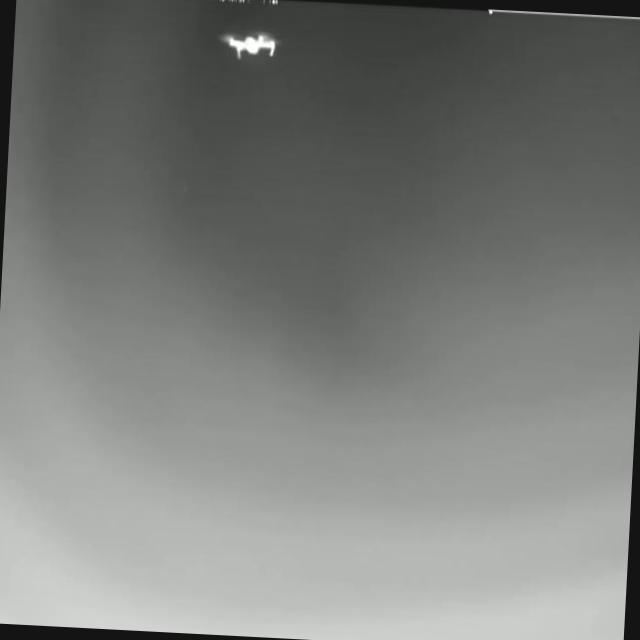DRONE: (220, 25, 285, 64)
